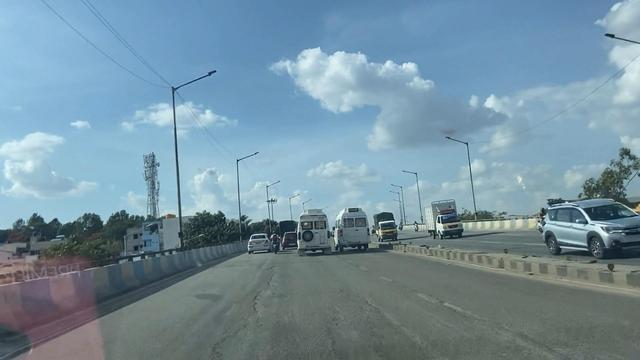HMV: (295, 210, 336, 259), (337, 210, 374, 252)
RoadDamages: (414, 290, 575, 360), (208, 268, 289, 360), (335, 288, 395, 360)
